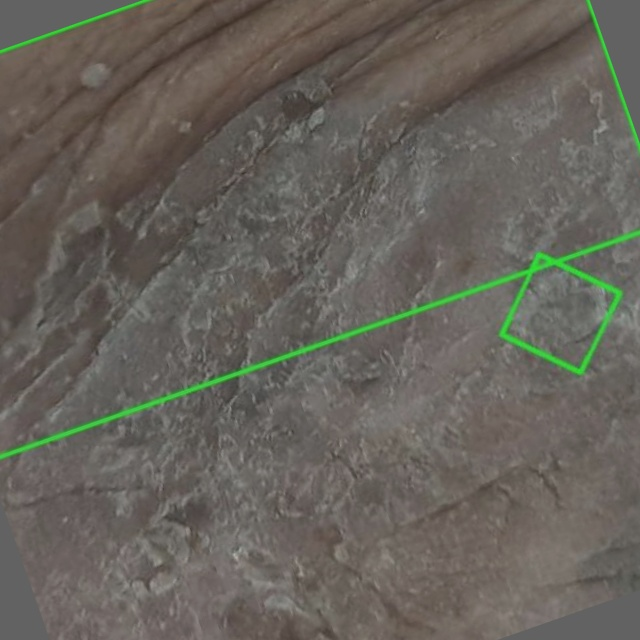Eczema: (0, 0, 639, 458), (501, 254, 619, 372)
